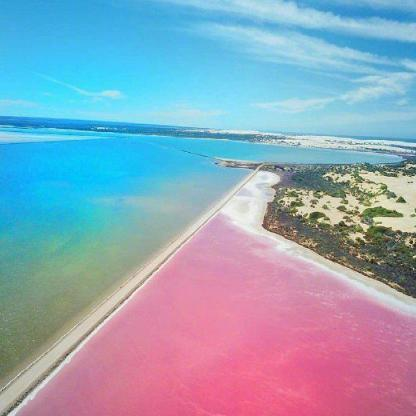other: (226, 161, 276, 245), (358, 168, 414, 228)
